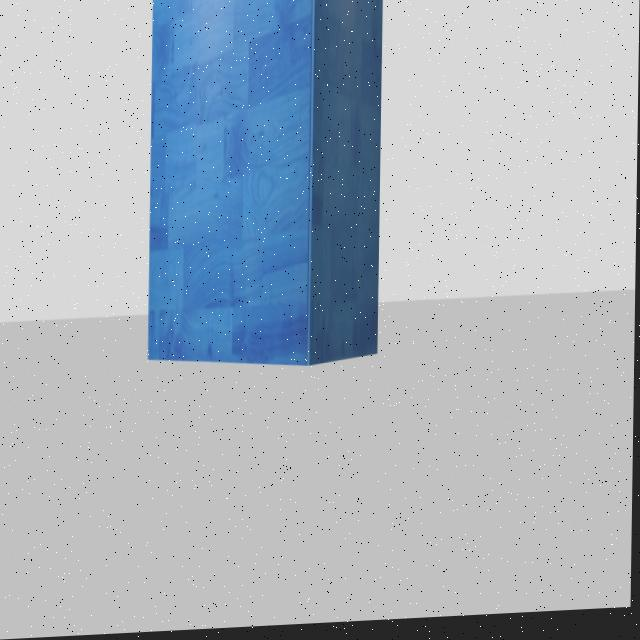shelf: (126, 0, 399, 402)
